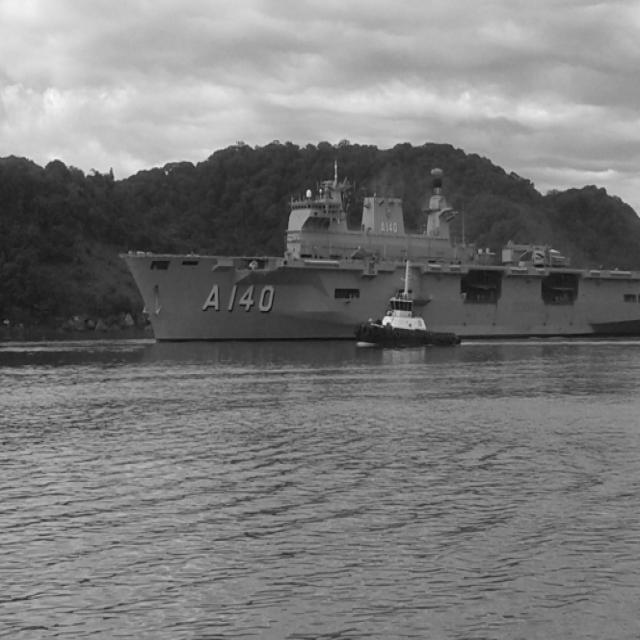Portanaves: (110, 149, 640, 356)
